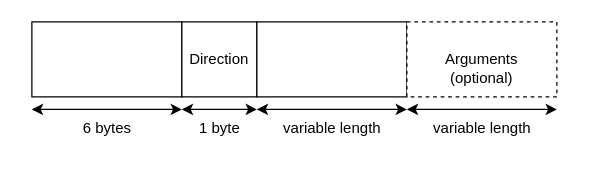
Image size: 590x169. Some labels were removed from this diagram. Each missing label, with the centre of its shape:
"Command" belongs at [331,59].
"MAC address" belongs at [106,59].
